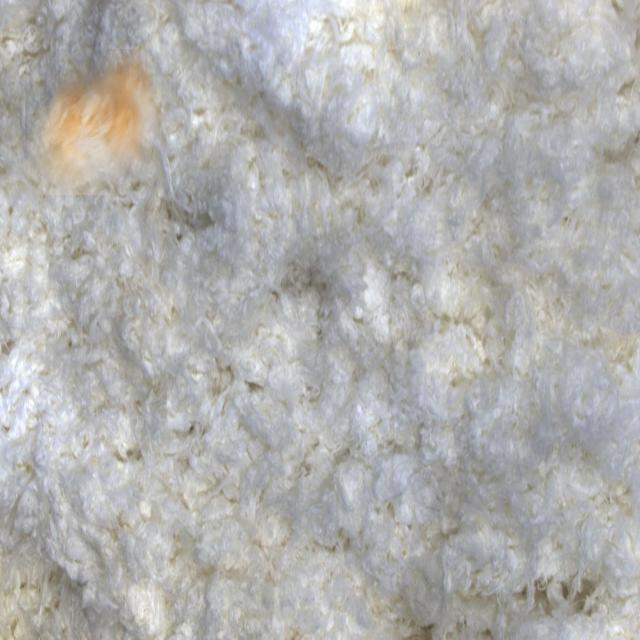dust: (25, 49, 162, 195)
